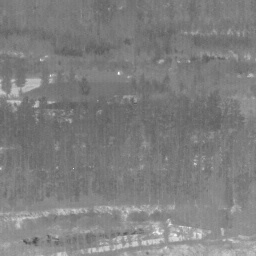aircraft: (96, 100, 98, 102)
